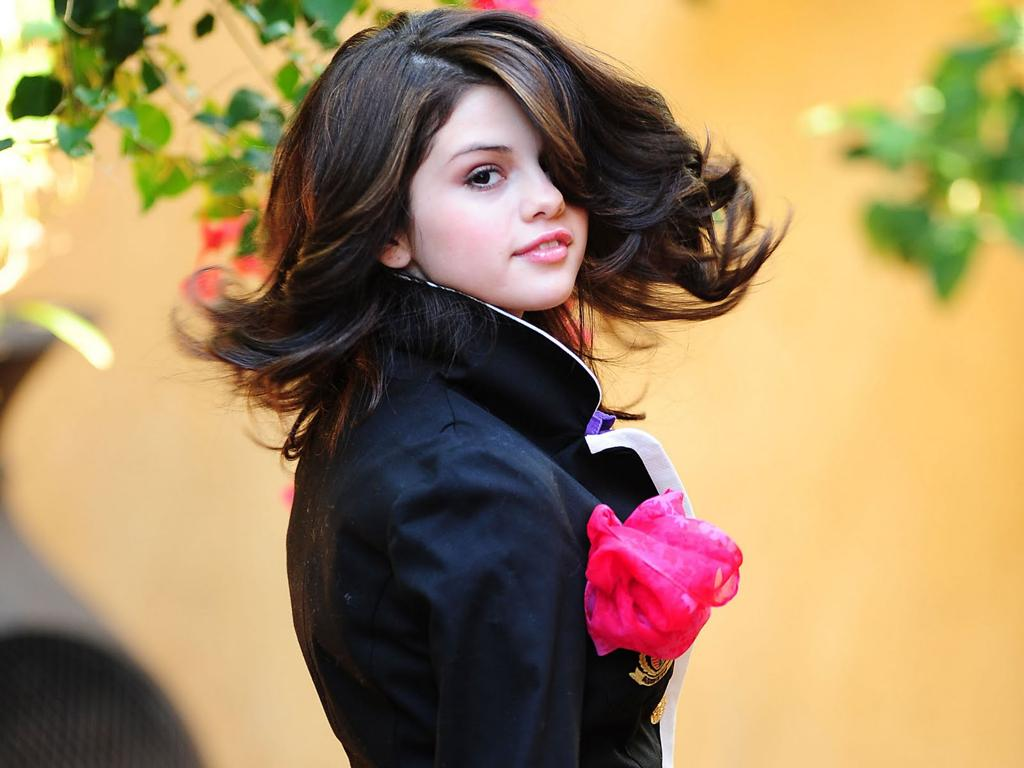face: (406, 74, 590, 308)
